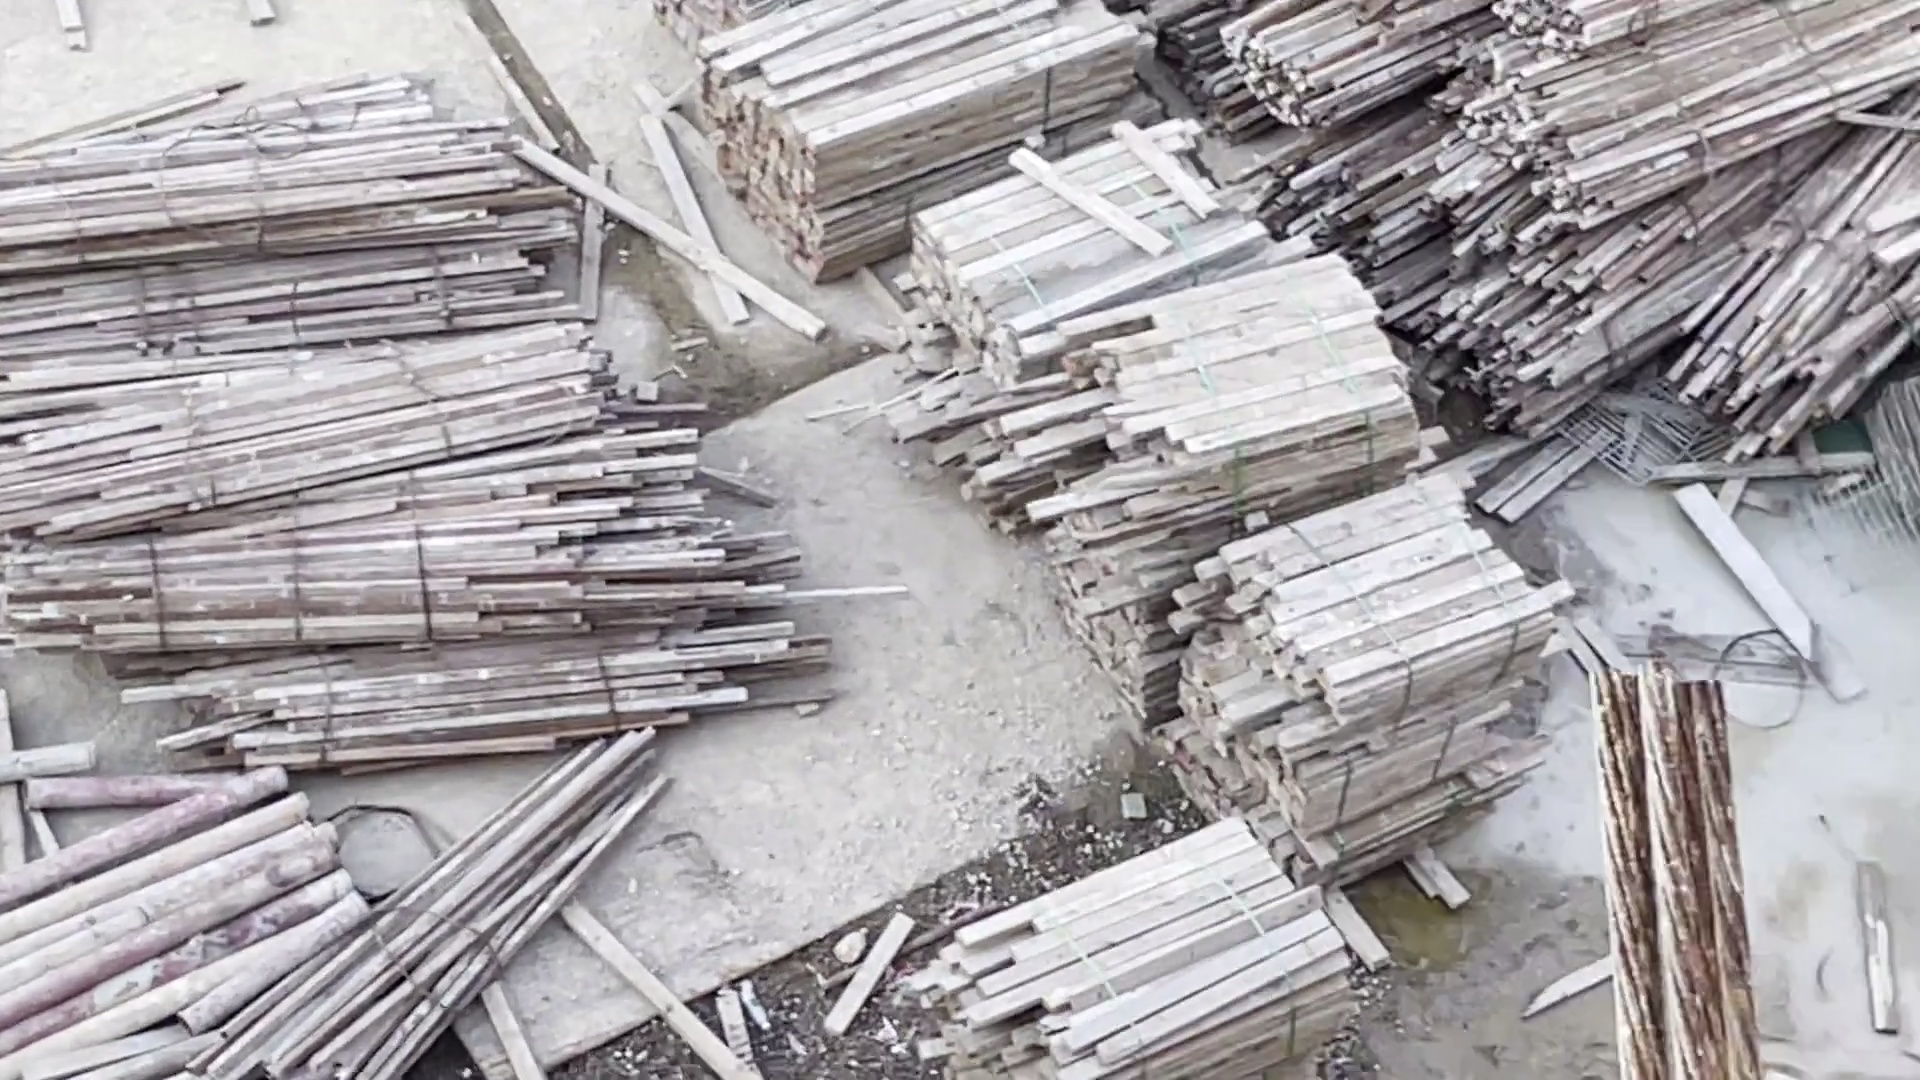wood: (1, 135, 814, 742), (1164, 1, 1920, 436), (884, 136, 1382, 709), (1200, 549, 1526, 870), (928, 816, 1305, 1080), (727, 1, 1039, 284)
